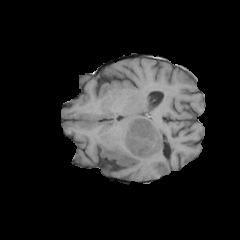glioma: (101, 117, 177, 172)
